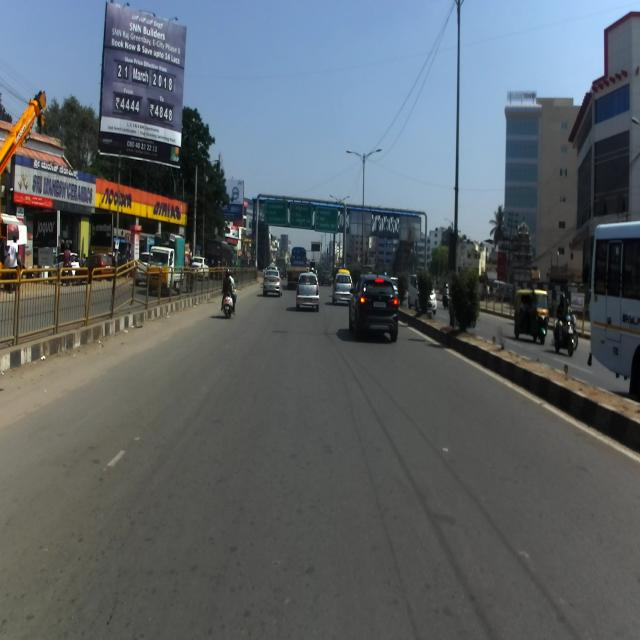car ahead at: (340, 267, 402, 351), (294, 268, 323, 320)
